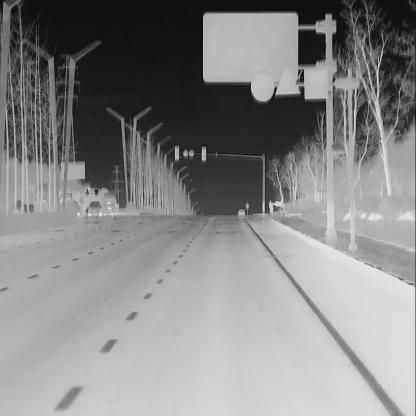car: (86, 200, 102, 217), (237, 206, 246, 216)
